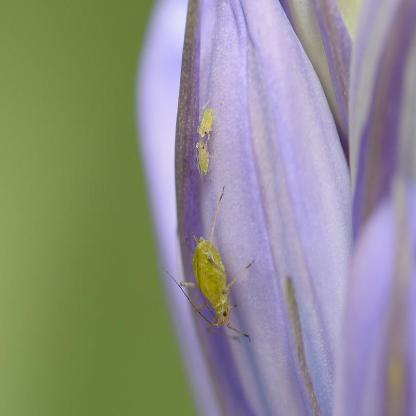aphid: (164, 191, 256, 343), (188, 135, 215, 179), (194, 99, 217, 145)
